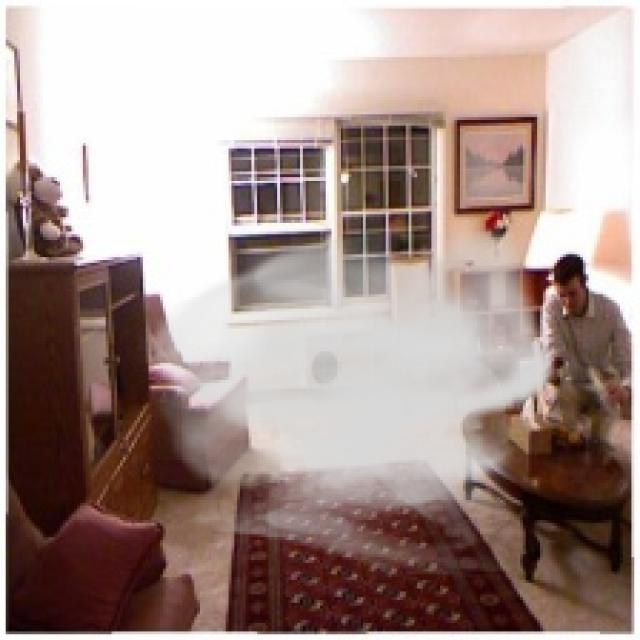smoke: (134, 220, 560, 580)
